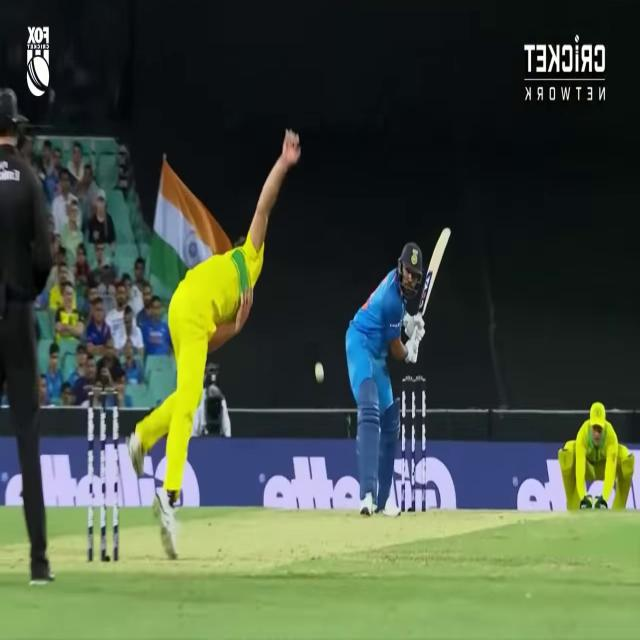ball: (314, 361, 324, 383)
stump: (401, 378, 425, 511)
